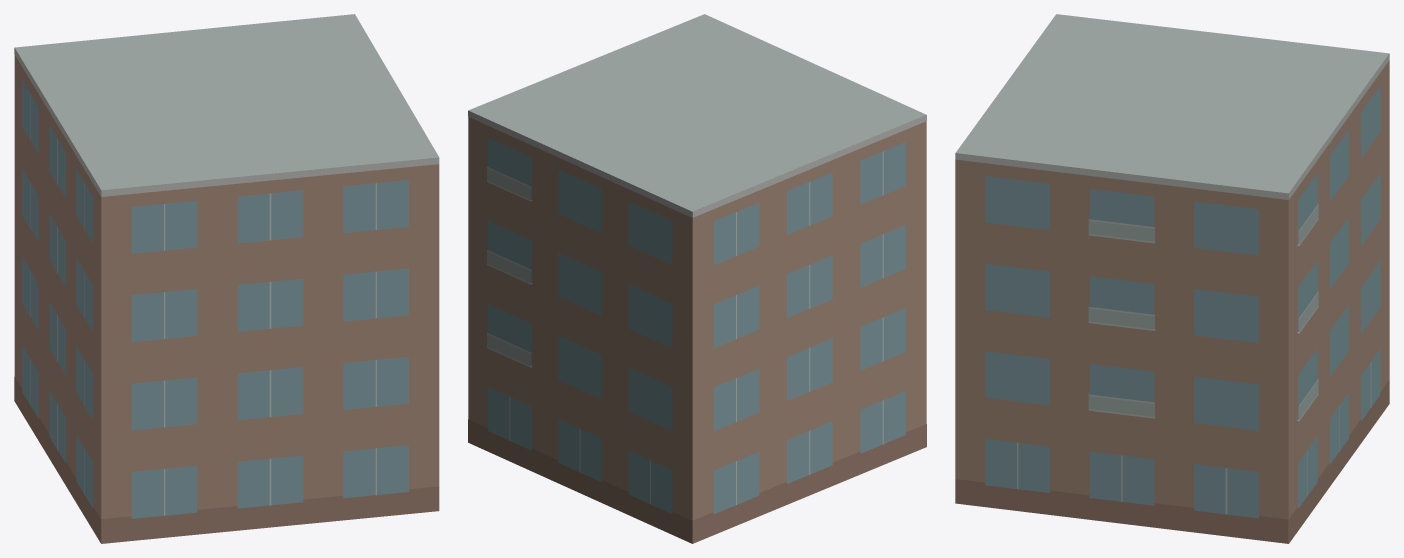
Rendered from survey-upis-32943024.glb.
The picture shows the model from 3 angles, left to right: view 1: azimuth 30°, elevation 25°; view 2: azimuth 150°, elevation 25°; view 3: azimuth 270°, elevation 25°; orthographic projection. The views are drawn at different scales.
Parts seen in each view (by area): view 1: survey-upis-32943024.tmp; view 2: survey-upis-32943024.tmp; view 3: survey-upis-32943024.tmp.
Boxes of the visible parts, x1=… form: survey-upis-32943024.tmp: x1=14, y1=14, x2=439, y2=543; survey-upis-32943024.tmp: x1=468, y1=14, x2=926, y2=543; survey-upis-32943024.tmp: x1=955, y1=14, x2=1389, y2=543.
Bounding box in the file's own units: 14.28 × 13 × 14.6.
